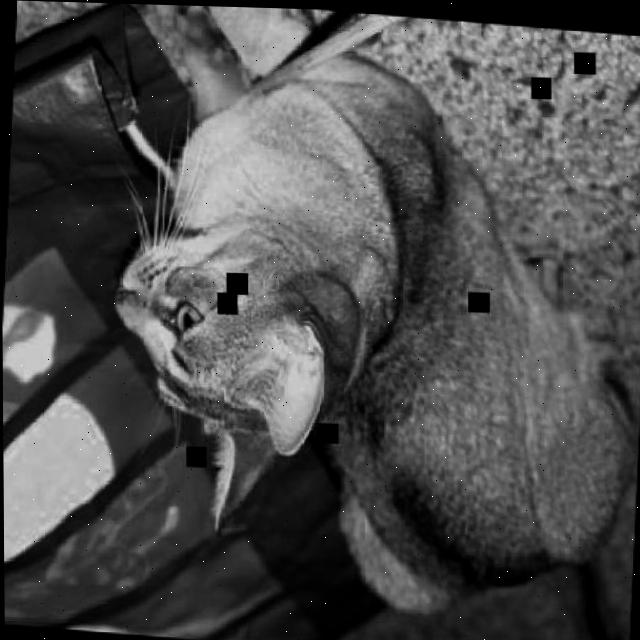Cat: (93, 3, 640, 640)
